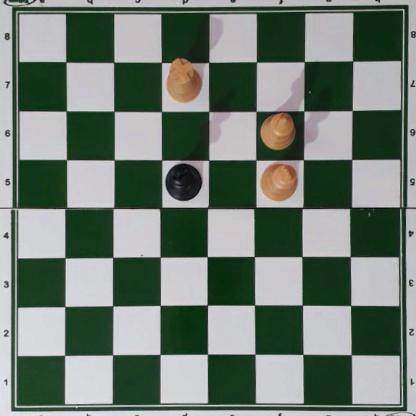black-king: (163, 163, 202, 201)
white-bishop: (261, 111, 294, 150)
white-king: (260, 161, 298, 202)
white-rook: (166, 59, 203, 103)
